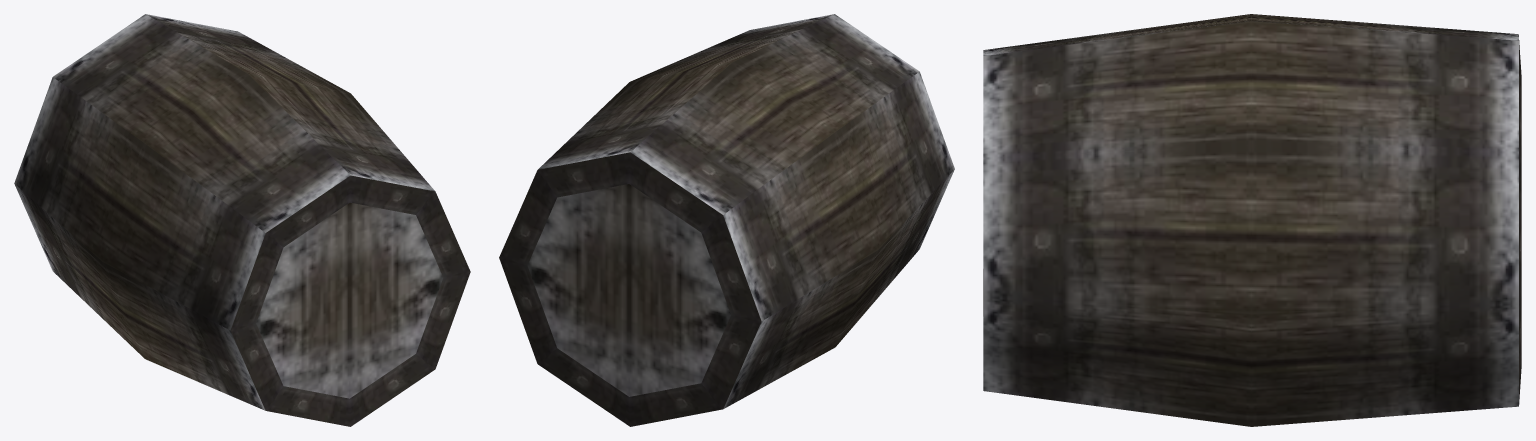
The picture shows the model from 3 angles, left to right: view 1: azimuth 30°, elevation 25°; view 2: azimuth 150°, elevation 25°; view 3: azimuth 270°, elevation 25°; orthographic projection. The views are drawn at different scales.
Visible parts, largest first — view 1: model_Object40; view 2: model_Object40; view 3: model_Object40.
Part boxes in pixels (x1,y1,x2,y2): model_Object40: (14, 14, 470, 426); model_Object40: (499, 14, 954, 426); model_Object40: (983, 14, 1521, 426).
Size of the model in its own units: 1.35 by 1.35 by 1.65.
Materials: 1 (1 with a texture image).
